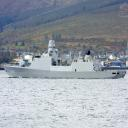Fragata: (2, 33, 128, 80)
